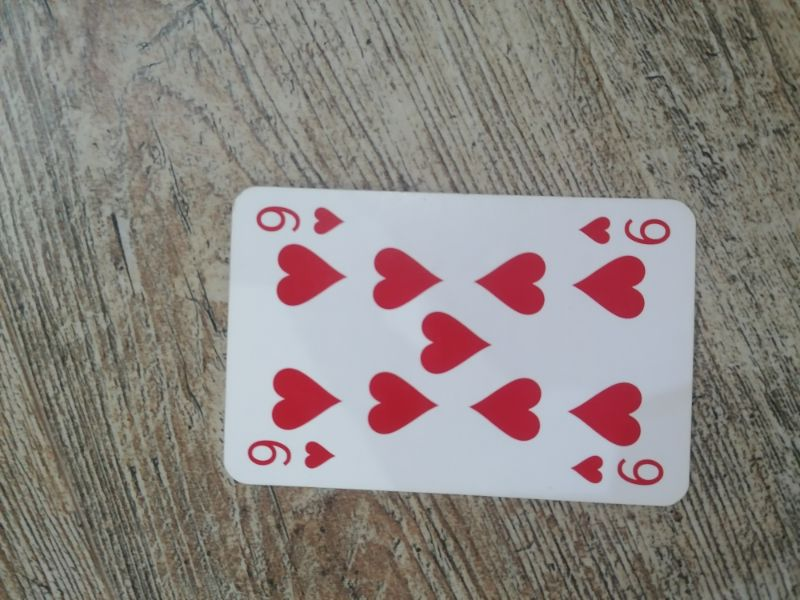9h: (574, 206, 674, 254), (251, 198, 351, 241), (567, 452, 669, 493), (243, 435, 341, 474)
